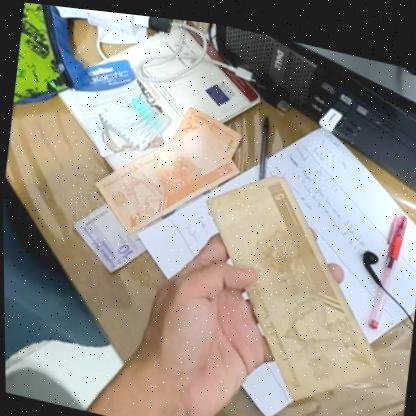five-back-vef: (182, 151, 403, 415)
twenty-back-vef: (86, 81, 248, 253)
